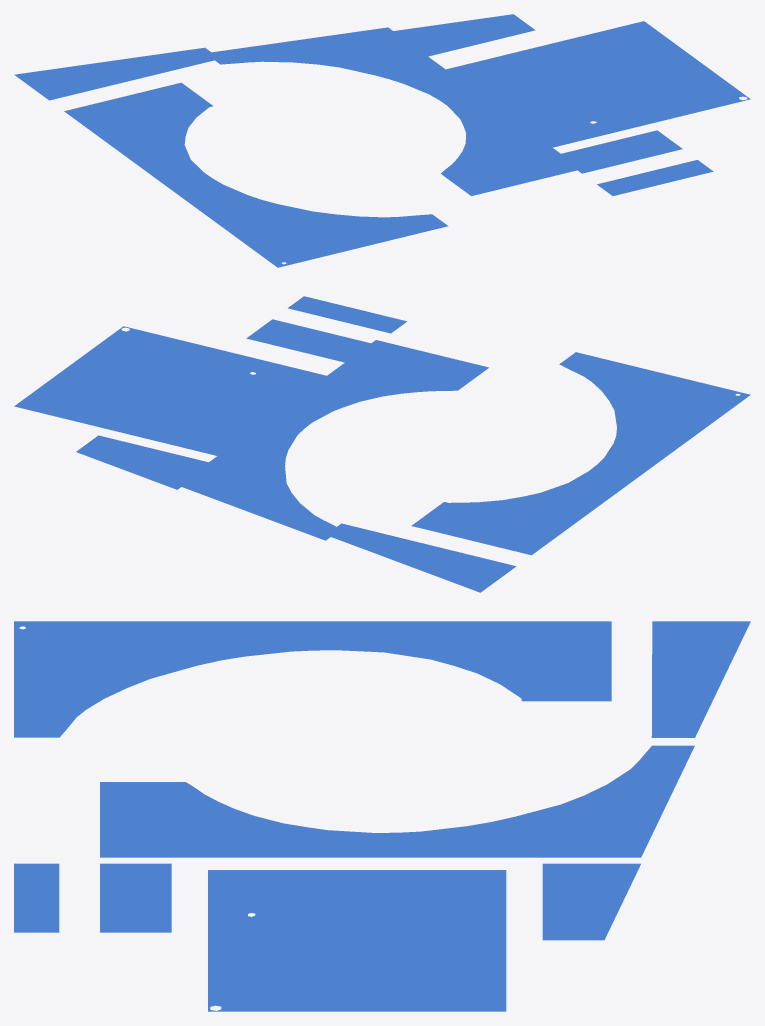
Rendered from GroundSmaller.fbx.
3 views of the same model, one above another, from view 1: azimuth 30°, elevation 25°; view 2: azimuth 150°, elevation 25°; view 3: azimuth 270°, elevation 25° (orthographic). The views are drawn at different scales.
Visible parts, largest first — view 1: Object_9.006, Object_9.001, Object_9.007, Object_9.002, Object_9.005, Object_9.004, Object_9.003; view 2: Object_9.006, Object_9.001, Object_9.007, Object_9.002, Object_9.005, Object_9.004, Object_9.003; view 3: Object_9.006, Object_9.001, Object_9.007, Object_9.002, Object_9.005, Object_9.004, Object_9.003.
Boxes of the visible parts, <box> form: Object_9.006: <box>446,21,750,147</box>; Object_9.001: <box>64,82,448,267</box>; Object_9.007: <box>212,27,581,195</box>; Object_9.002: <box>14,47,219,100</box>; Object_9.005: <box>393,14,535,56</box>; Object_9.004: <box>561,130,682,173</box>; Object_9.003: <box>597,160,713,195</box>; Object_9.006: <box>14,326,326,455</box>; Object_9.001: <box>411,352,750,555</box>; Object_9.007: <box>177,340,488,540</box>; Object_9.002: <box>326,523,516,592</box>; Object_9.005: <box>76,435,208,489</box>; Object_9.004: <box>246,319,370,362</box>; Object_9.003: <box>288,296,406,333</box>; Object_9.006: <box>208,870,506,1011</box>; Object_9.001: <box>14,621,611,737</box>; Object_9.007: <box>100,745,694,857</box>; Object_9.002: <box>651,621,750,737</box>; Object_9.005: <box>542,863,640,940</box>; Object_9.004: <box>100,863,171,932</box>; Object_9.003: <box>14,863,59,932</box>.
Size of the model in its own units: 10086 by 260 by 8496.
